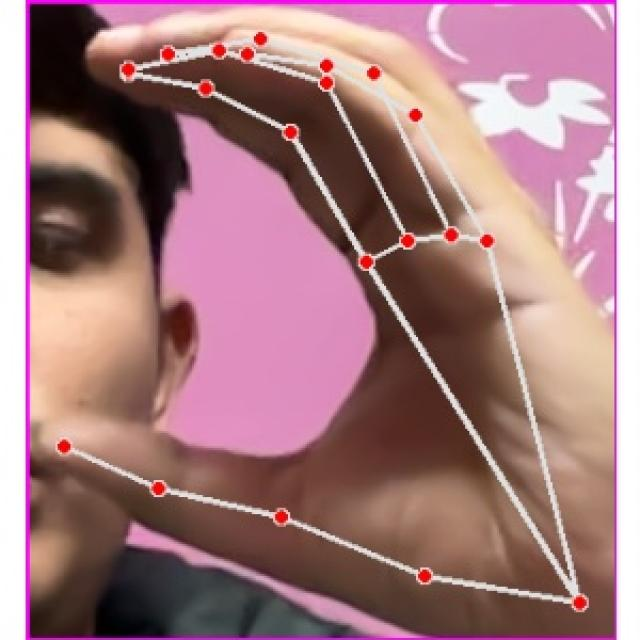C: (31, 1, 640, 640)
